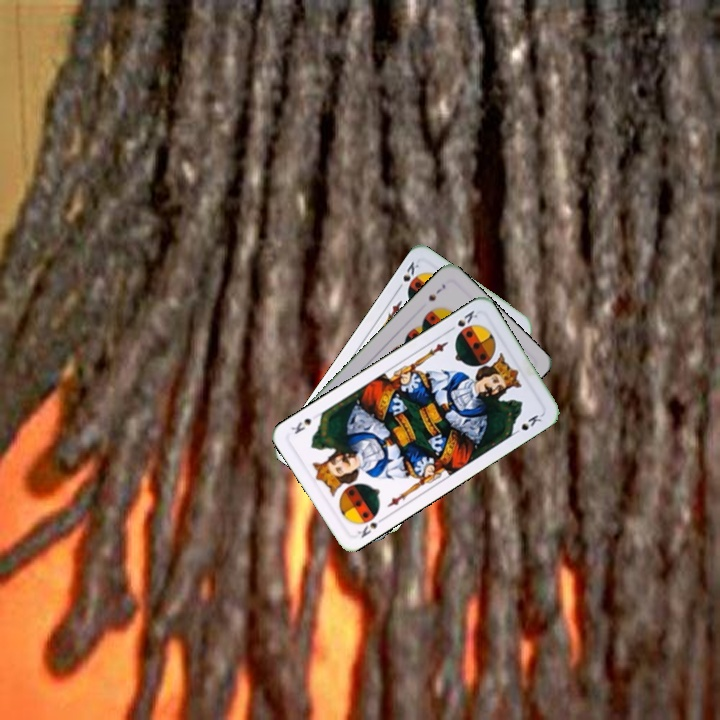S7: (424, 280, 448, 303)
SK: (393, 257, 423, 293), (444, 306, 480, 335), (353, 512, 388, 540)
